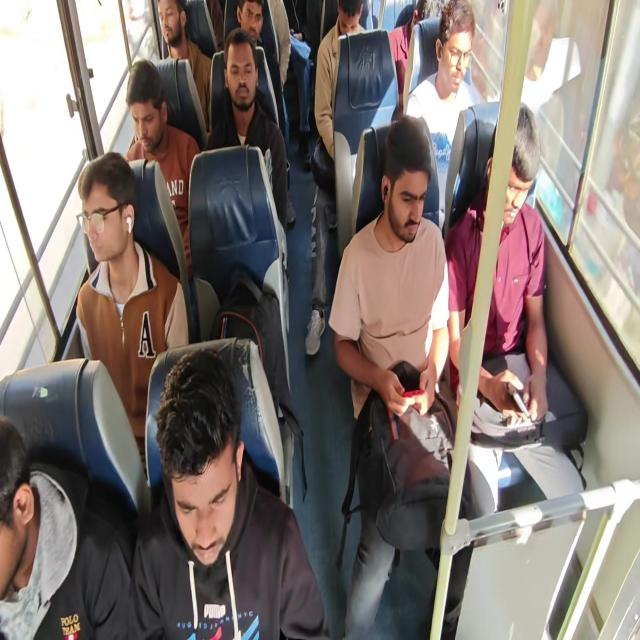person: (158, 383, 292, 624), (58, 122, 164, 365), (116, 68, 204, 201), (0, 375, 44, 640), (478, 71, 564, 190), (396, 152, 459, 291), (432, 4, 487, 89), (276, 0, 319, 82), (149, 0, 207, 57), (325, 0, 369, 68), (229, 55, 251, 127), (408, 0, 452, 33), (236, 0, 262, 38)
